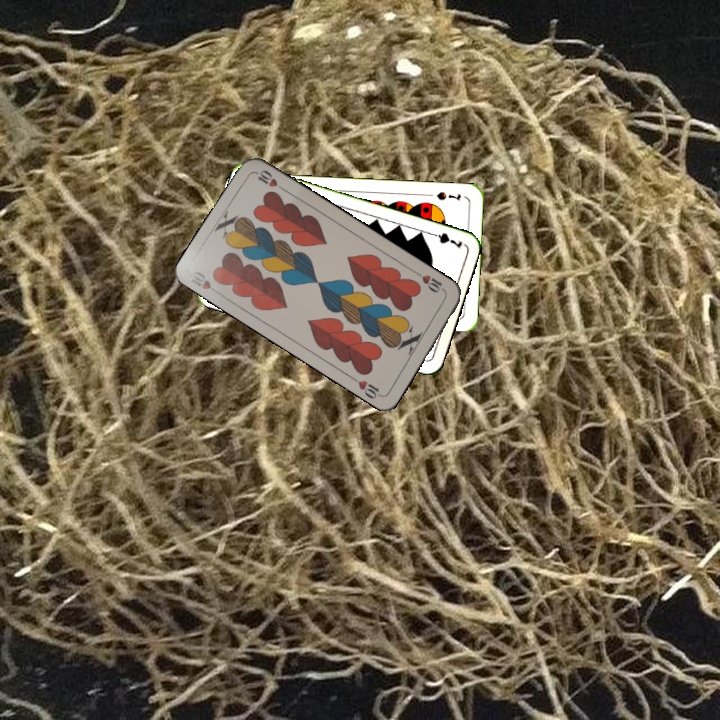G7: (425, 228, 465, 251)
H10: (188, 267, 224, 298), (412, 268, 449, 296)
S7: (433, 188, 463, 203)
